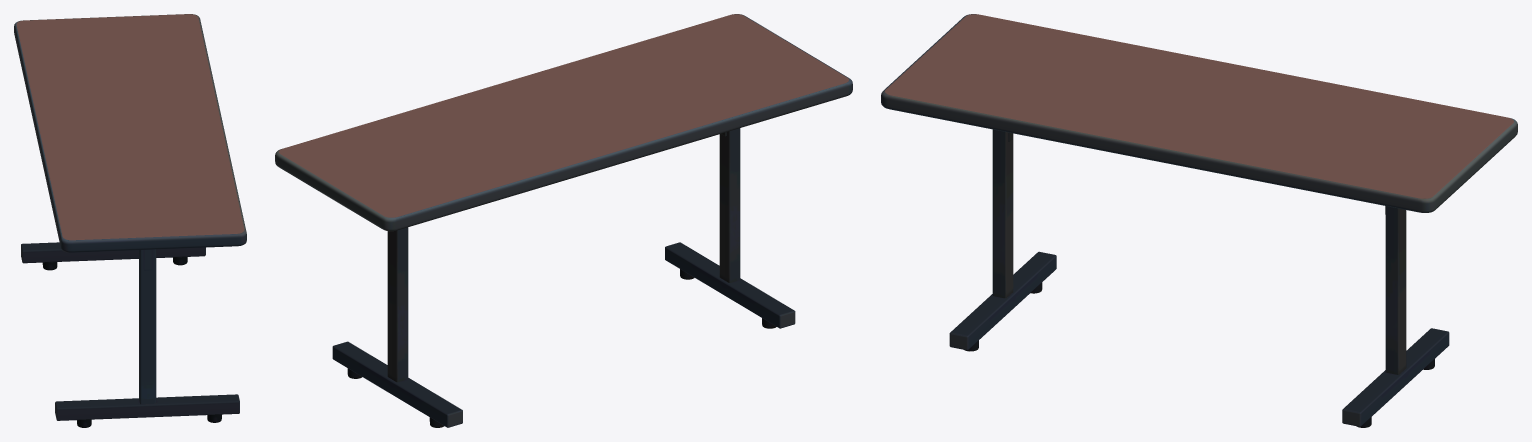
File: table.fbx
The picture shows the model from 3 angles, left to right: view 1: azimuth 30°, elevation 25°; view 2: azimuth 150°, elevation 25°; view 3: azimuth 270°, elevation 25°; orthographic projection. The views are drawn at different scales.
Visible parts, largest first — view 1: node_id49; view 2: node_id49; view 3: node_id49.
Boxes of the visible parts, x1,y1,x2,y2 form: node_id49: [14, 14, 246, 427]; node_id49: [275, 14, 852, 427]; node_id49: [881, 14, 1517, 427].
Bounding box in the file's own units: 0.3729 × 0.232 × 0.5349.
Materials: 1 (1 with a texture image).
